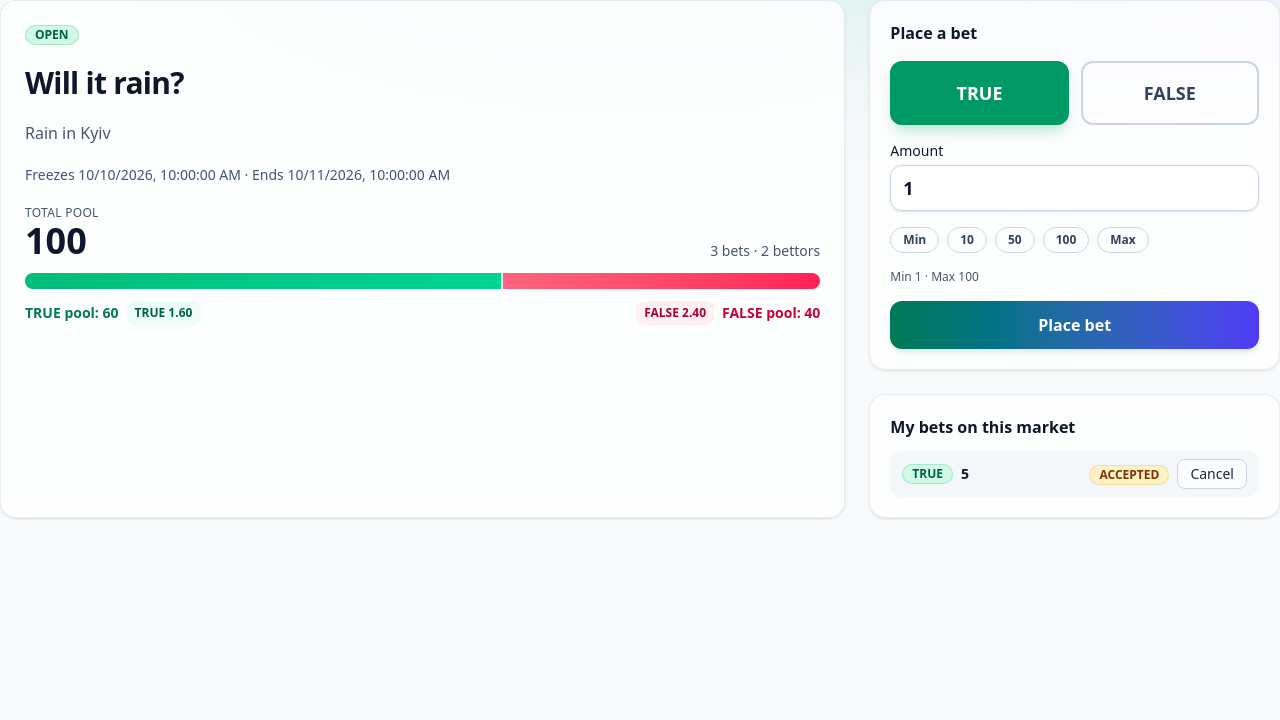
Test case: cancelling a bet marks it CANCELLED at once and rolls back on error
Step 1. Click the button "Cancel" → (1212, 474), box [1177,459,1247,489]
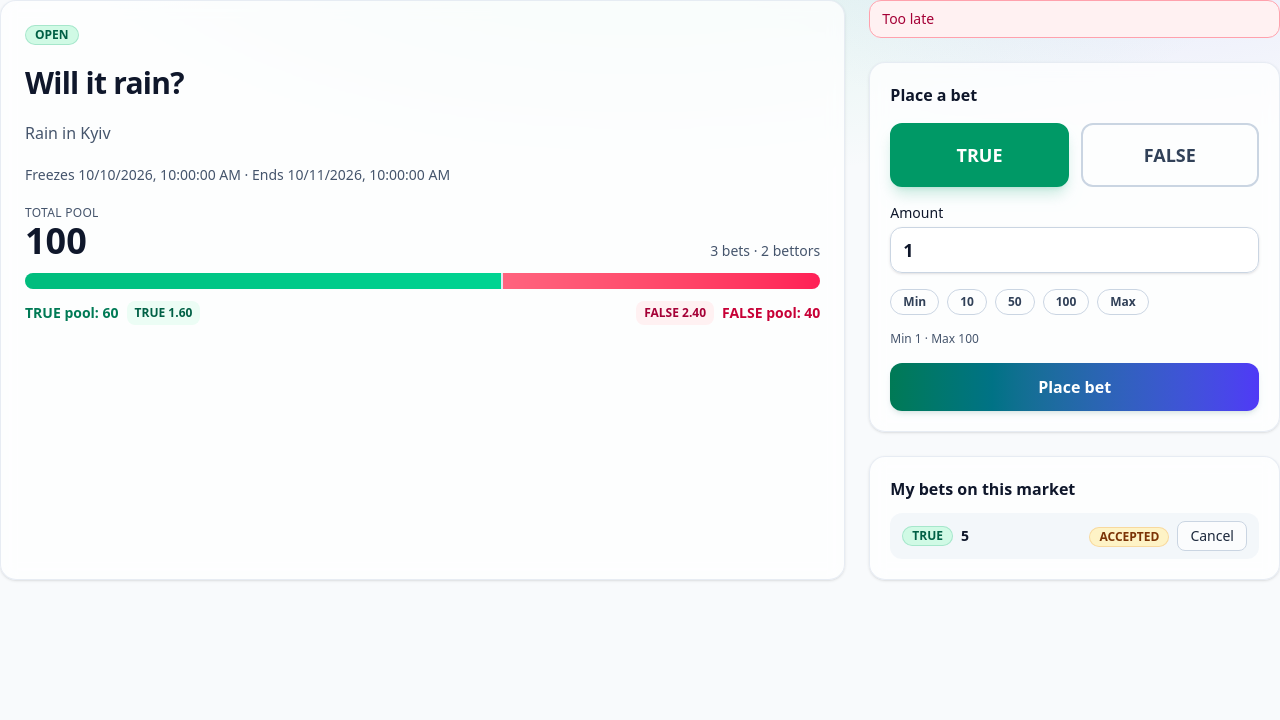
Expected: the text "ACCEPTED" is shown, [1090,526,1169,546]
Expected: the message reads "Too late", [882,9,934,28]
